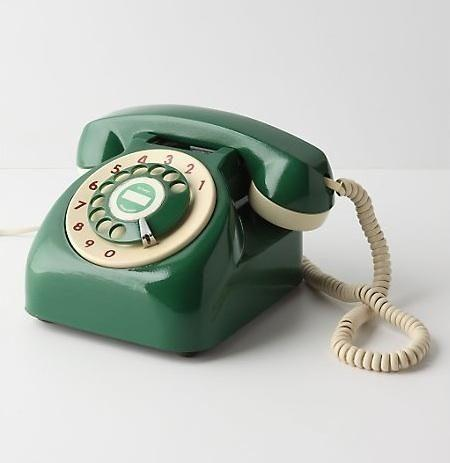non-dog: (20, 102, 336, 358)
